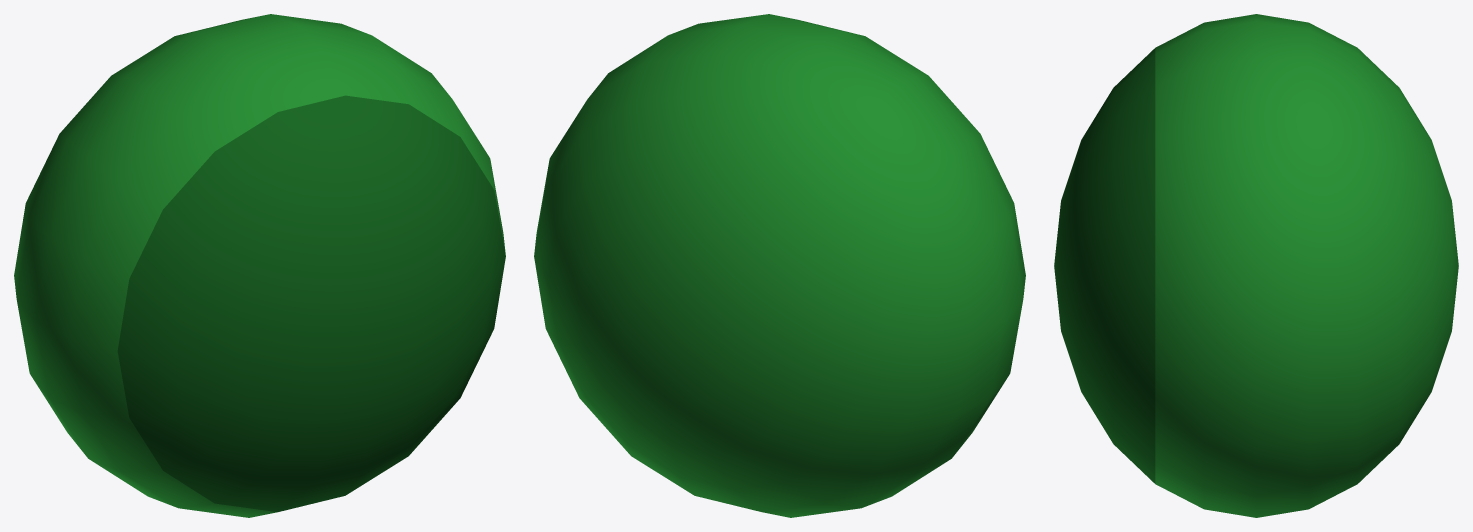
The model's file is snake_body.obj.
The picture shows the model from 3 angles, left to right: view 1: azimuth 30°, elevation 25°; view 2: azimuth 150°, elevation 25°; view 3: azimuth 270°, elevation 25°; orthographic projection. The views are drawn at different scales.
Parts seen in each view (by area): view 1: snake_body_skin_dark, snake_body_skin; view 2: snake_body_skin; view 3: snake_body_skin, snake_body_skin_dark.
Boxes of the visible parts, x1,y1,x2,y2 form: snake_body_skin_dark: (117,95,505,512); snake_body_skin: (14,14,505,517); snake_body_skin: (534,14,1025,517); snake_body_skin: (1155,14,1458,517); snake_body_skin_dark: (1054,48,1155,483).
Size of the model in its own units: 0.6 by 0.5909 by 0.48.
